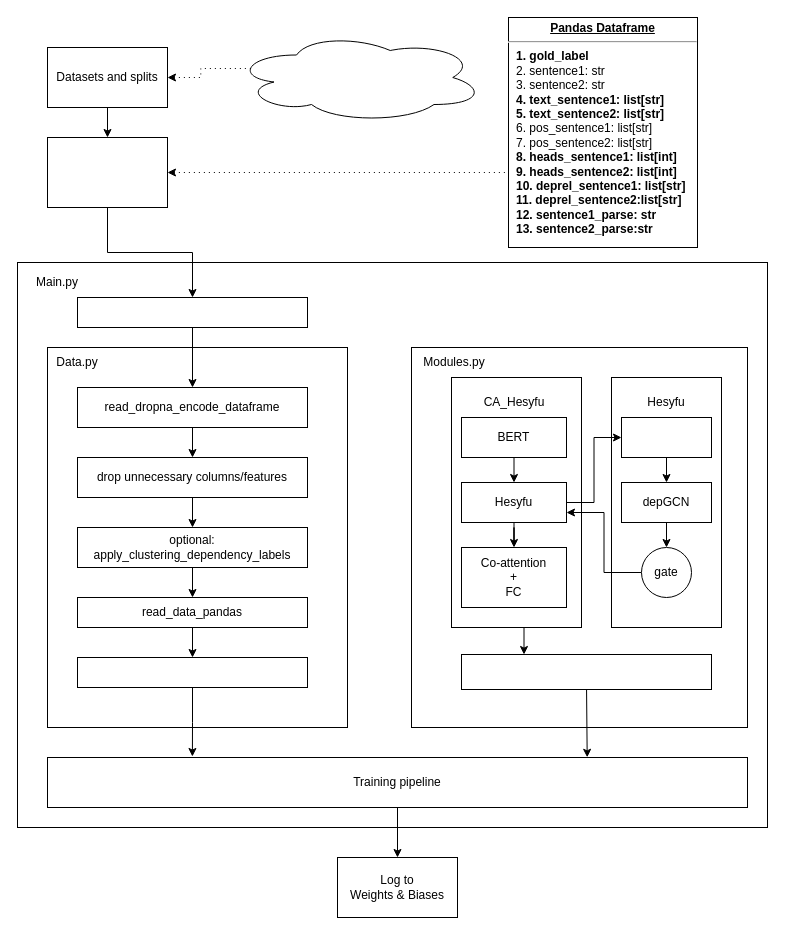
Image size: 785x935. Some labels were removed from this diagram. The centre of each missing label's shape, as x and y in pixels:
"constGCN" belongs at point 666,437.
"From Notebooks: Stanza dependency+ constituency features" belongs at point 107,172.
"initialize_model" belongs at point 586,672.
"load train/eval splits, optional: load augment datasets" belongs at point 192,312.
"PyTorch dataset + dataloader" belongs at point 192,672.
"SNLI, MNLI, HANS, MED, HELP" belongs at point 358,77.
